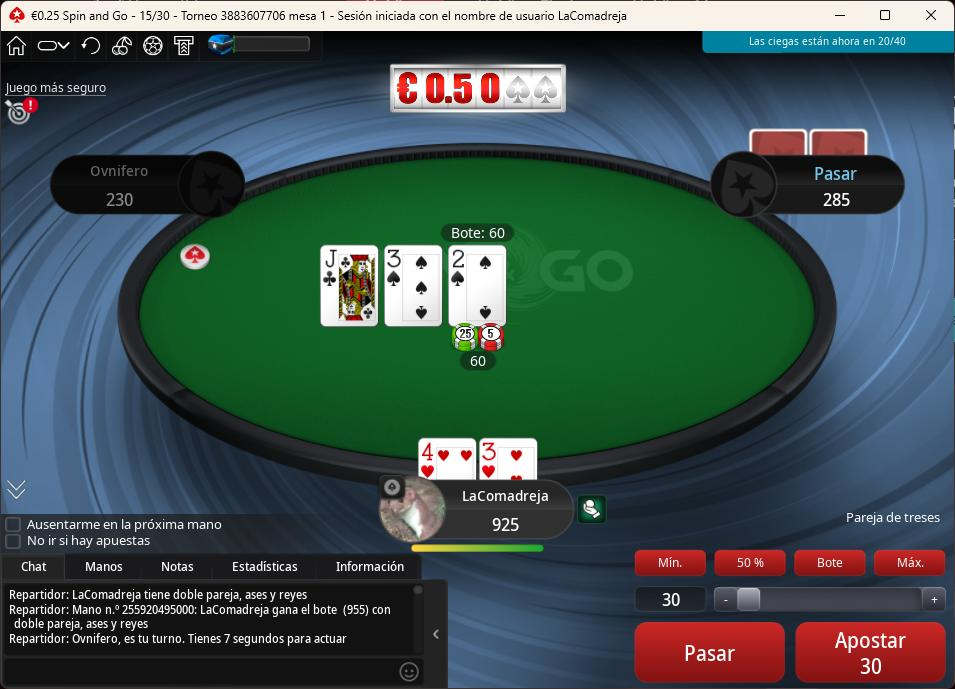ButtonBet: (795, 620, 947, 686)
ButtonCall: (626, 616, 785, 687)
ButtonFold: (633, 619, 788, 684)
ButtonMaxRaise: (871, 550, 946, 578)
ButtonMinRaise: (635, 550, 707, 576)
ButtonPotRaise: (793, 547, 869, 580)
ButtonRaise: (789, 617, 952, 687)
Dealer: (180, 243, 214, 272)
HiddenCards: (748, 128, 867, 152)
Player: (712, 149, 908, 220), (53, 150, 246, 215)
PlayerChips: (103, 188, 139, 210), (490, 516, 528, 534), (822, 190, 855, 210)
Pot: (442, 224, 516, 241)
PrincipalCards: (418, 438, 538, 479)
PrincipalCards1: (417, 436, 481, 482)
PrincipalCards2: (479, 436, 543, 482)
PrincipalPlayer: (378, 471, 575, 541)
ShowedCards: (319, 240, 512, 328)
ShowedCards1: (319, 245, 384, 331)
ShowedCards2: (384, 246, 446, 330)
ShowedCards3: (446, 243, 510, 329)
SmallBigBlind: (130, 4, 181, 29)
TablePot: (428, 324, 525, 380)
